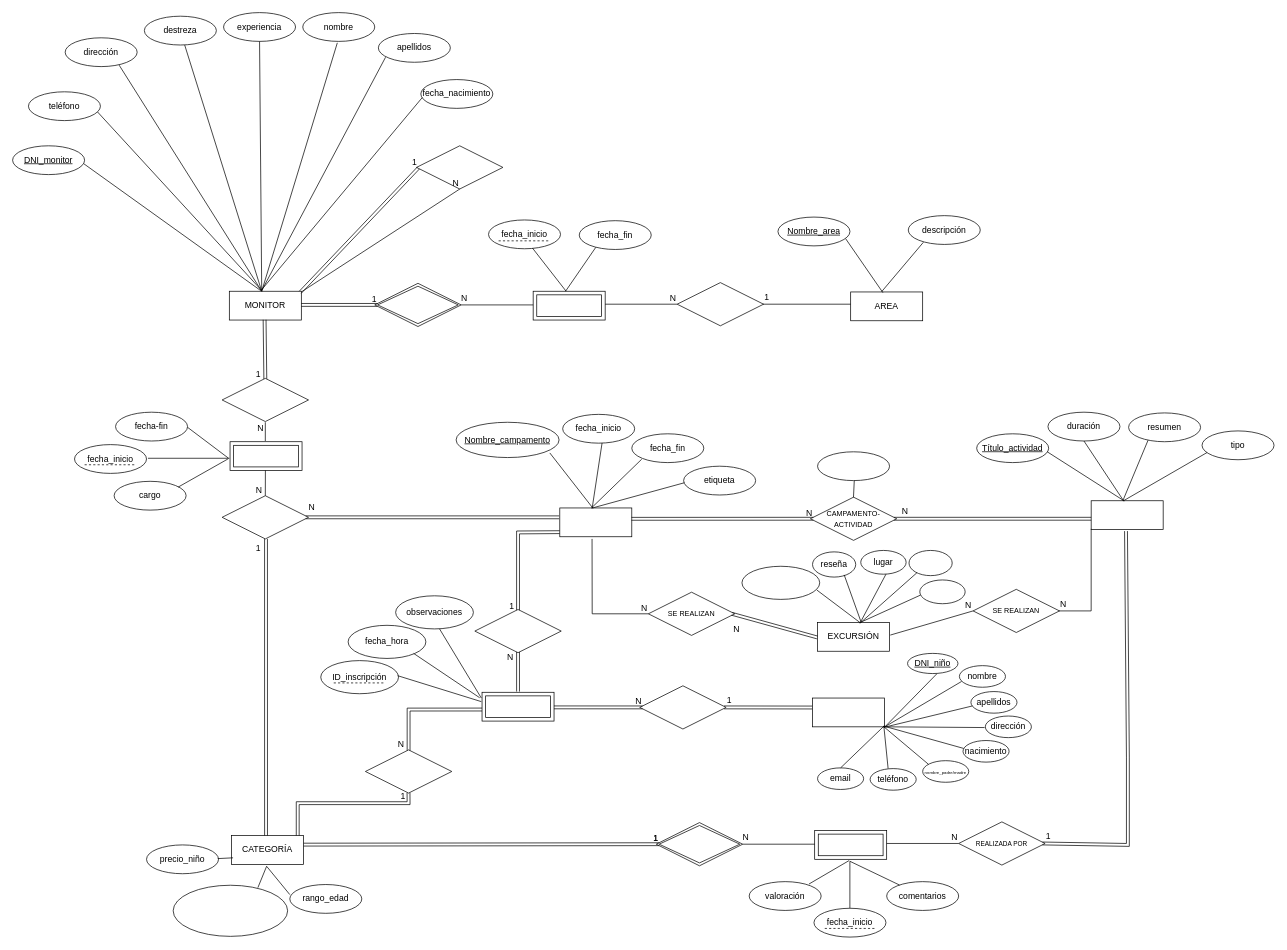
Some shapes in this 1287 by 950 pixel diagram are drawn without their labels. The shapes that lost their labels are listed below. From the top down, each one's box as (x1, y1, x2, y2) in pixels, then its label:
(416, 145, 503, 189): SUPERVISOR
(374, 283, 461, 327): ALMACENADO EN
(532, 291, 605, 320): MONITOR-AREA
(676, 282, 764, 326): TRABAJA EN
(221, 378, 309, 422): MONITORIZADO POR
(229, 441, 302, 471): MONITORIZA
(817, 451, 890, 481): número_actividad
(221, 495, 309, 539): MONITOREA
(559, 507, 632, 537): CAMPAMENTO
(1090, 500, 1163, 530): ACTIVIDAD
(741, 566, 820, 599): Nombre_excursión
(908, 550, 952, 576): localidad
(919, 579, 965, 604): provincia
(481, 692, 554, 721): Inscripción
(812, 697, 885, 727): NIÑO
(656, 822, 743, 866): PARTICIPA EN
(814, 830, 887, 859): CATEGORÍA-ACTIVIDAD
(172, 885, 288, 936): Denominación_categoría
